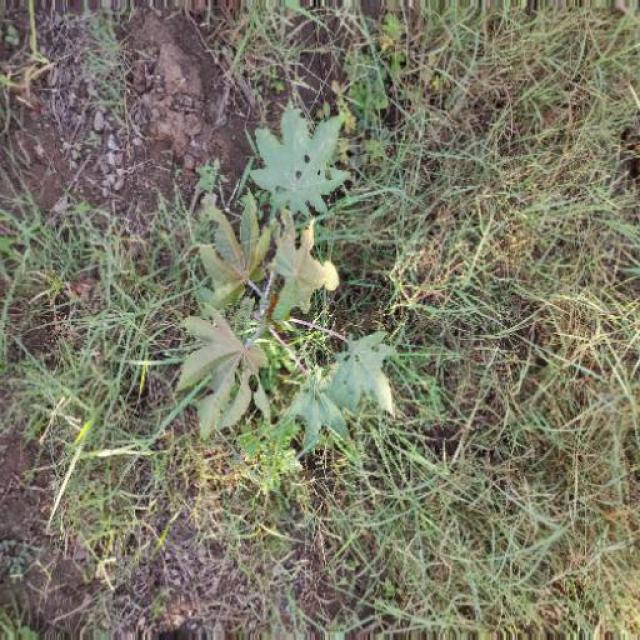weed: (168, 121, 408, 482)
